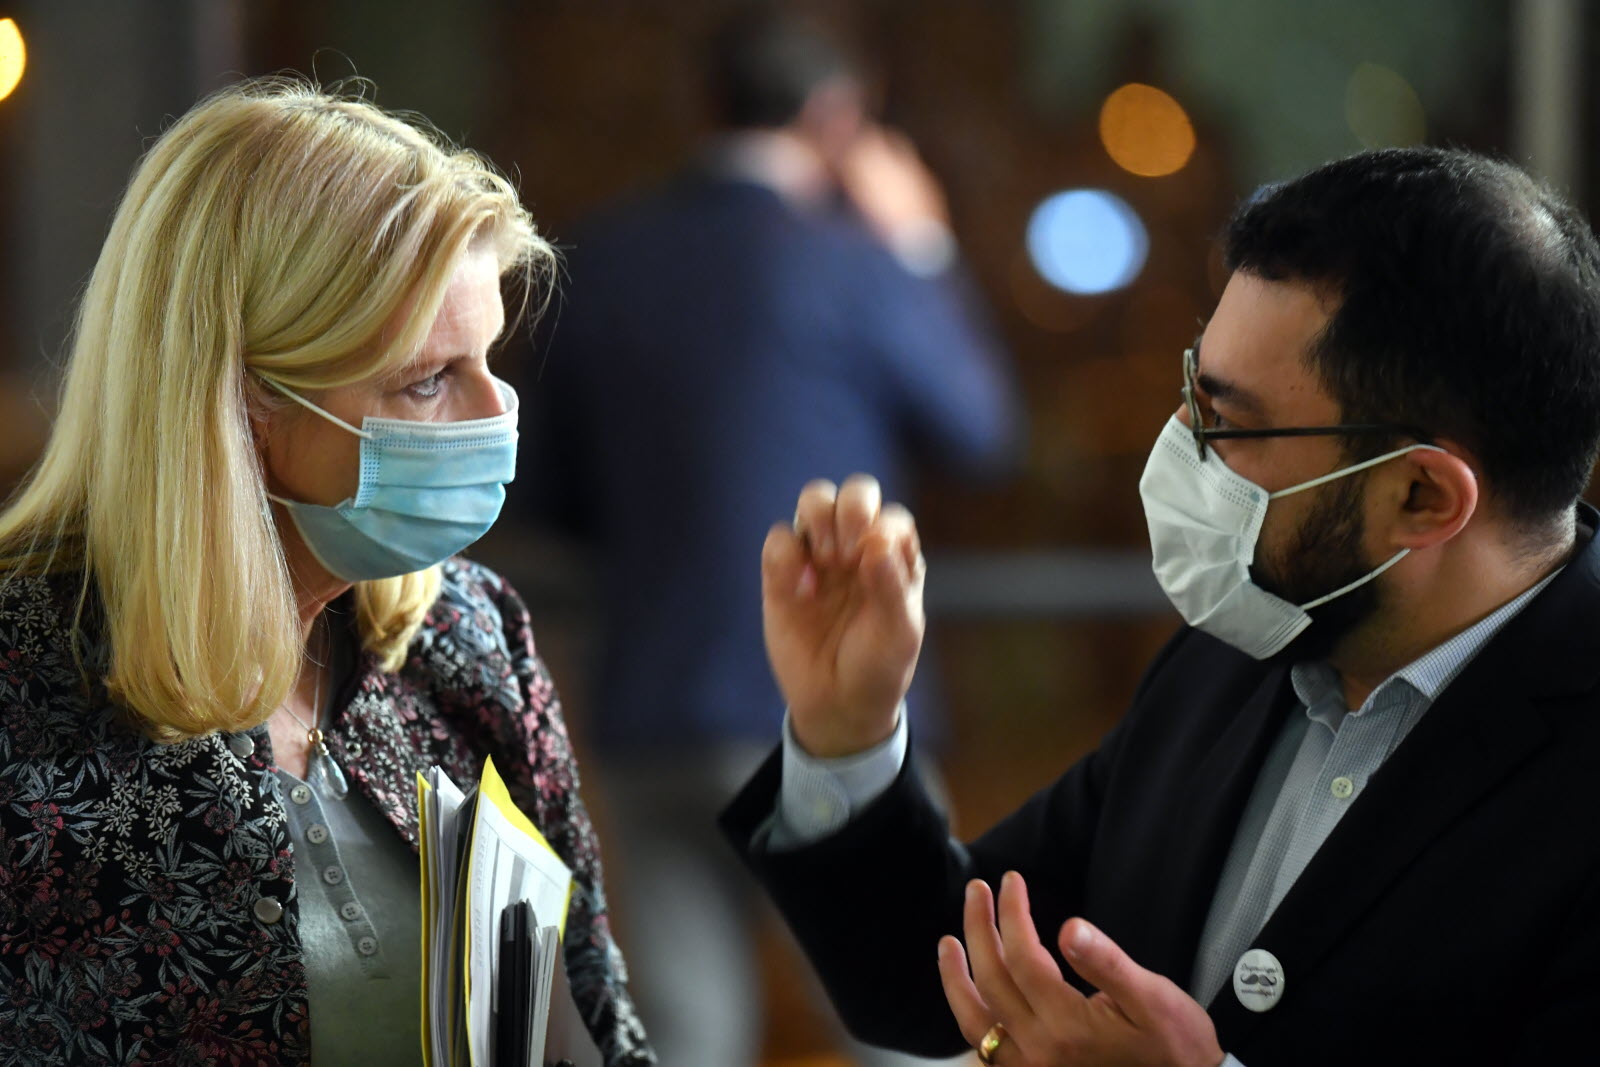with_mask: (1138, 329, 1323, 660), (363, 297, 523, 578)
